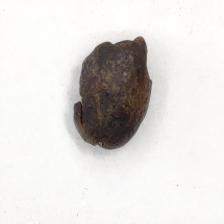NG: (74, 36, 152, 149)
